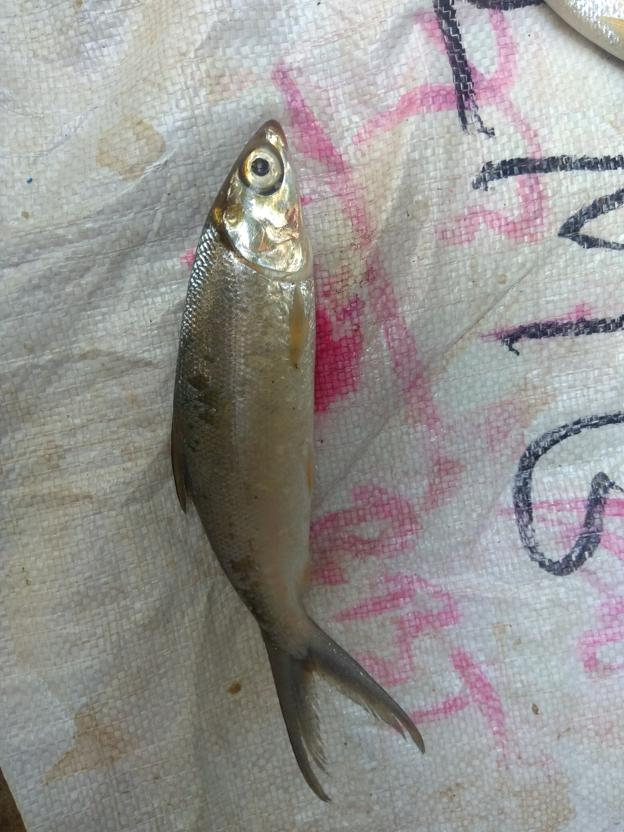Fish head: (211, 116, 315, 282)
Fish tail: (258, 613, 425, 805)
